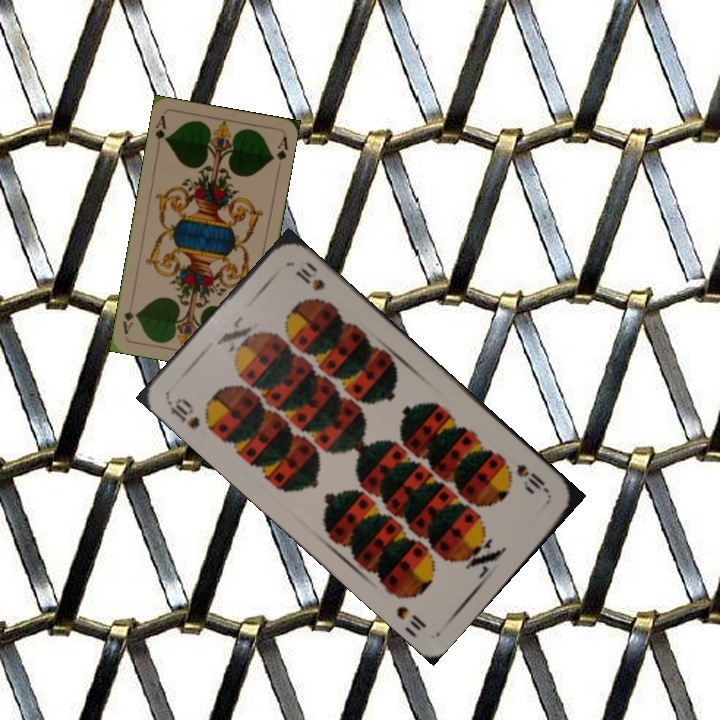GA: (151, 111, 170, 152)
S10: (512, 459, 552, 499), (164, 394, 203, 432)
